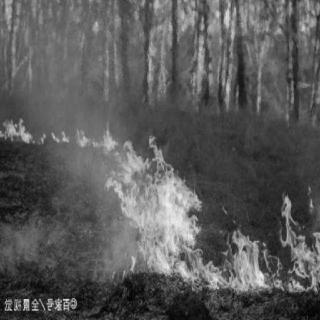Fire: (2, 105, 126, 153)
